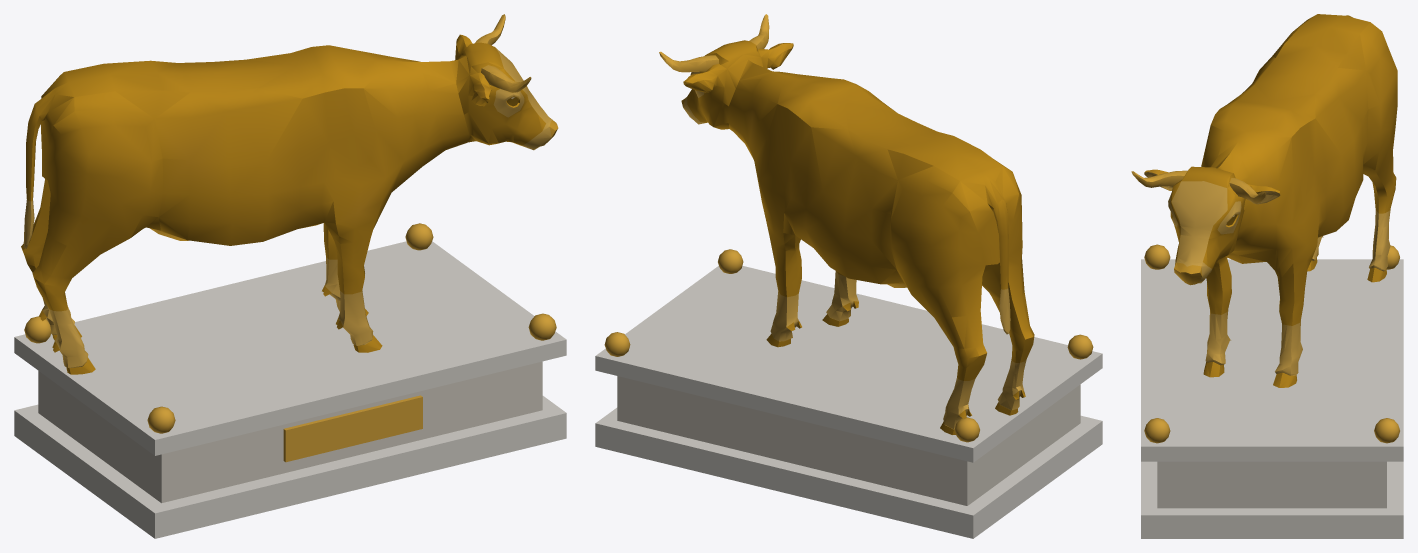
Rendered from golden_cow_statue.glb.
3 views of the same model, side by side, from view 1: azimuth 30°, elevation 25°; view 2: azimuth 150°, elevation 25°; view 3: azimuth 270°, elevation 25° (orthographic). The views are drawn at different scales.
Visible parts, largest first — view 1: decor-golden_cow_statue; view 2: decor-golden_cow_statue; view 3: decor-golden_cow_statue.
Part boxes in pixels (x1=…): decor-golden_cow_statue: x1=14, y1=14, x2=566, y2=538; decor-golden_cow_statue: x1=595, y1=14, x2=1102, y2=538; decor-golden_cow_statue: x1=1131, y1=14, x2=1403, y2=538.
Bounding box in the file's own units: 2.96 × 2.37 × 1.66.
